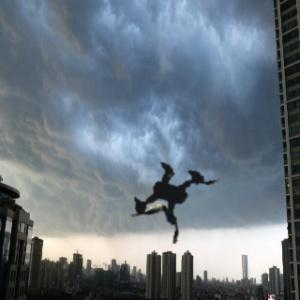drone: (84, 105, 253, 274)
